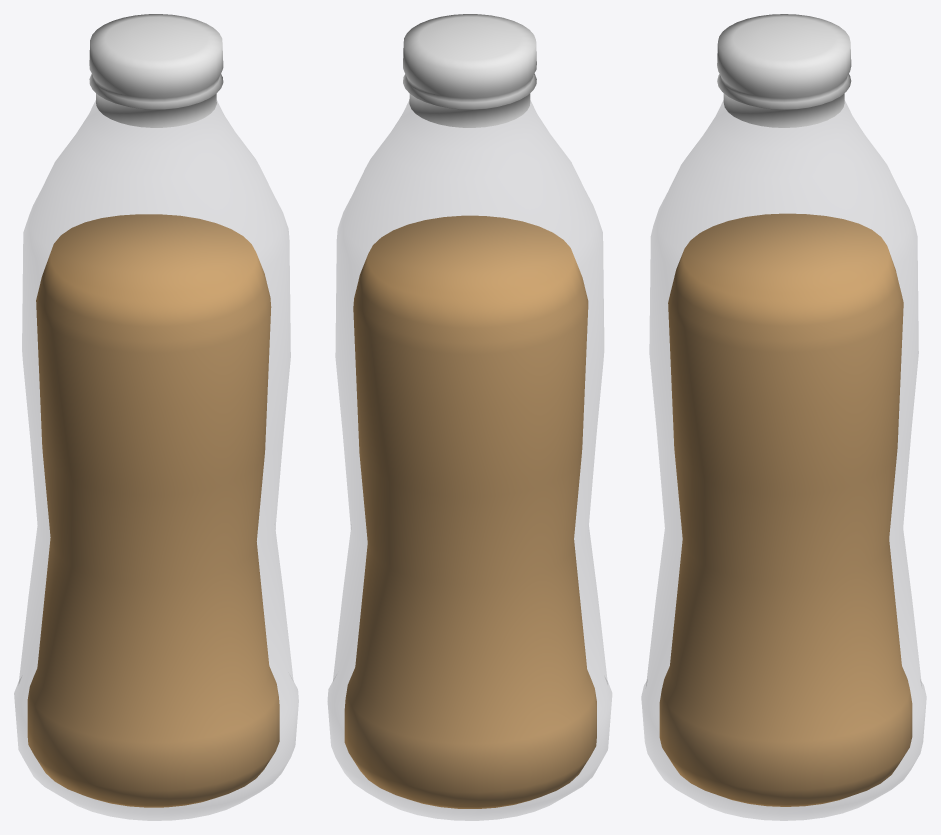
File: MelonJuice.glb
3 renders of one model, left to right at view 1: azimuth 30°, elevation 25°; view 2: azimuth 150°, elevation 25°; view 3: azimuth 270°, elevation 25°, orthographic.
Visible parts, largest first — view 1: Cylinder.002, Cylinder.001; view 2: Cylinder.002, Cylinder.001; view 3: Cylinder.002, Cylinder.001.
Part boxes in pixels (x1,y1,x2,y2): Cylinder.002: [14, 14, 298, 820]; Cylinder.001: [27, 214, 279, 807]; Cylinder.002: [328, 14, 611, 820]; Cylinder.001: [344, 215, 596, 808]; Cylinder.002: [641, 14, 926, 820]; Cylinder.001: [659, 213, 912, 806].
Bounding box in the file's own units: 1.23 × 3.59 × 1.23.
